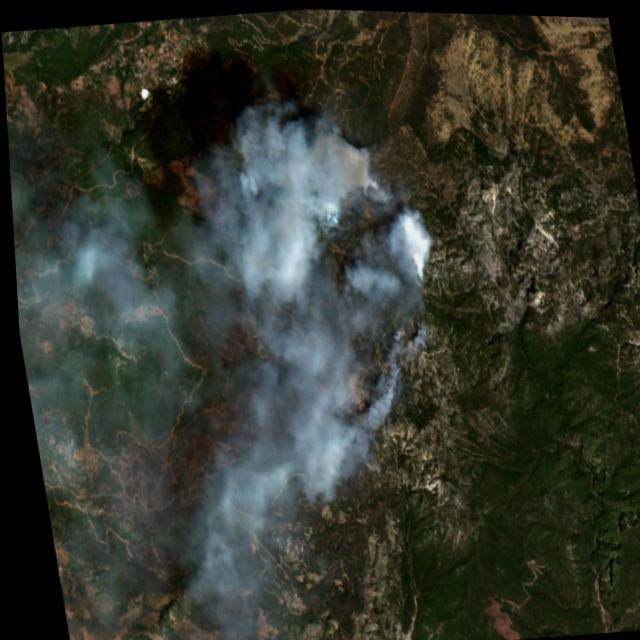fire: (303, 121, 457, 425)
